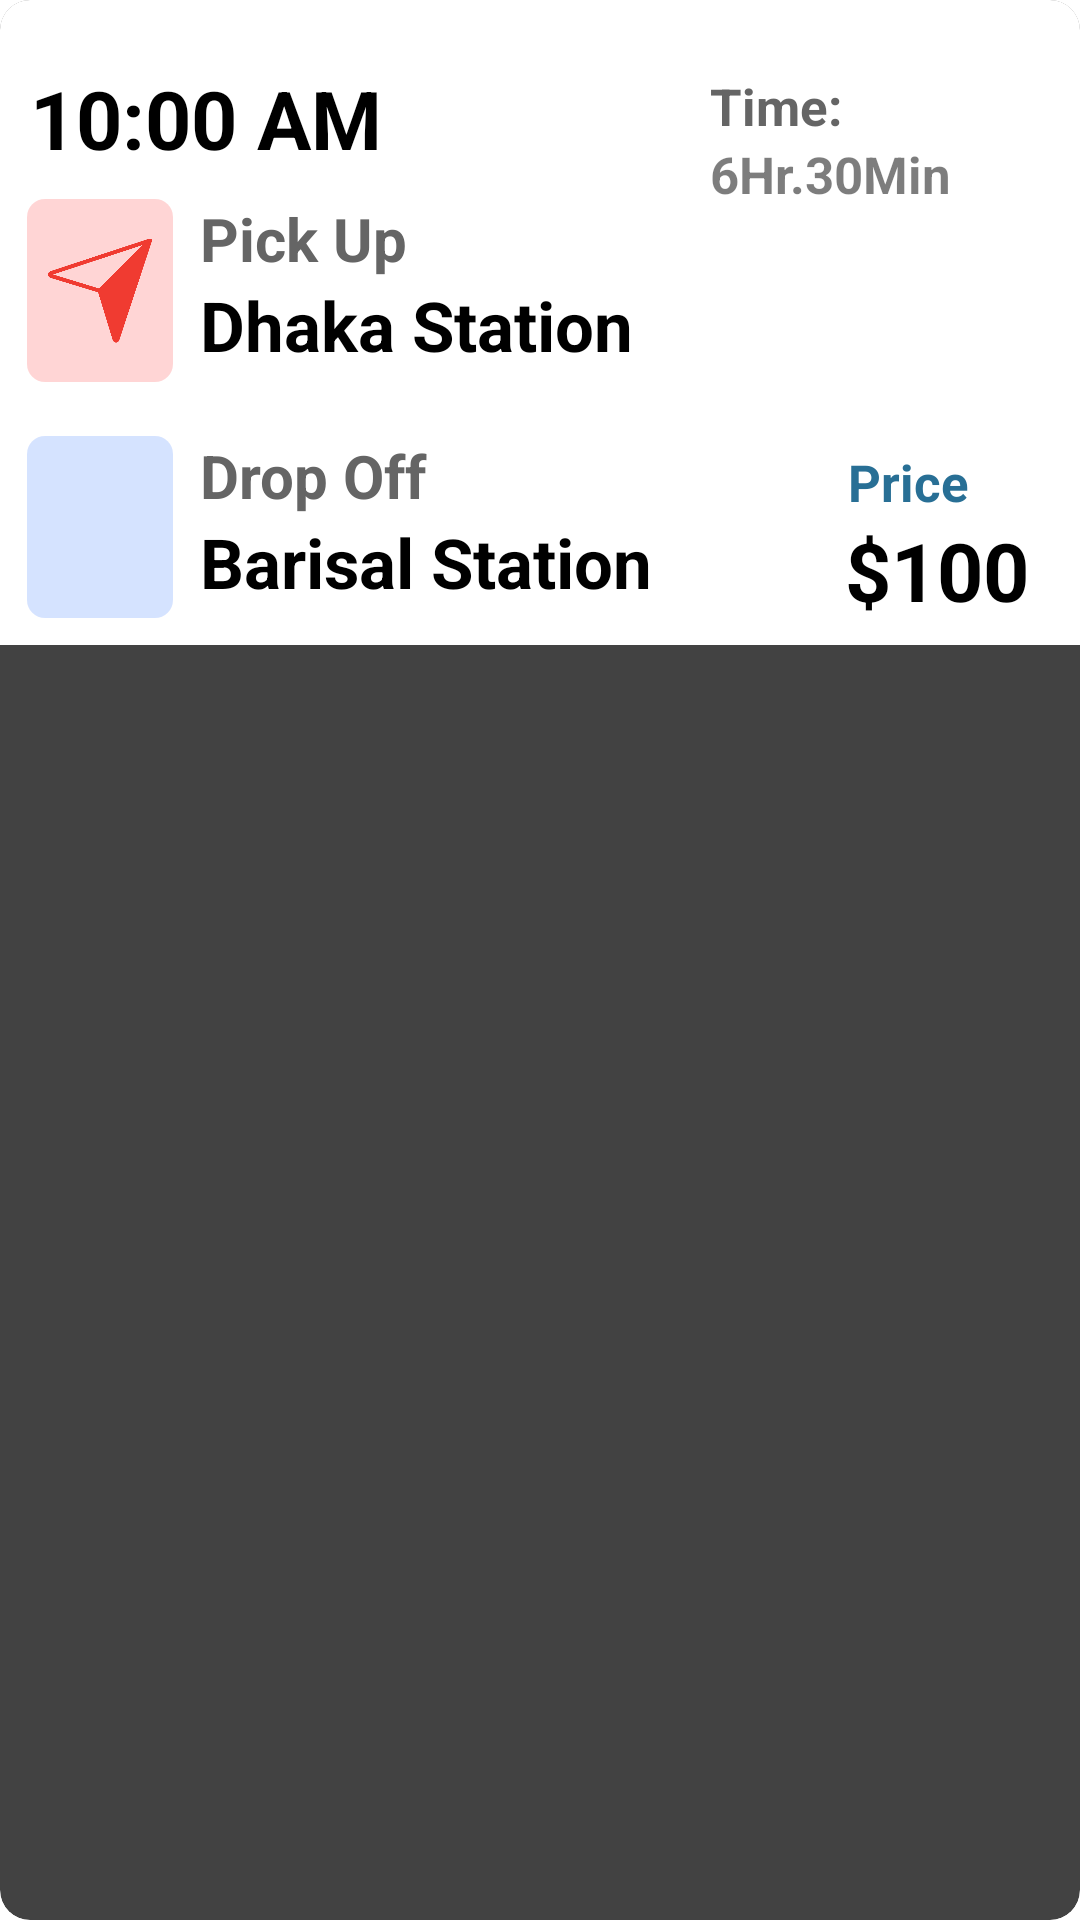

Icon bounding boxes for this 1080×1920 phone screenshot, format detection(x1, y1, x2, y2):
direction: detection(27, 199, 173, 382)
